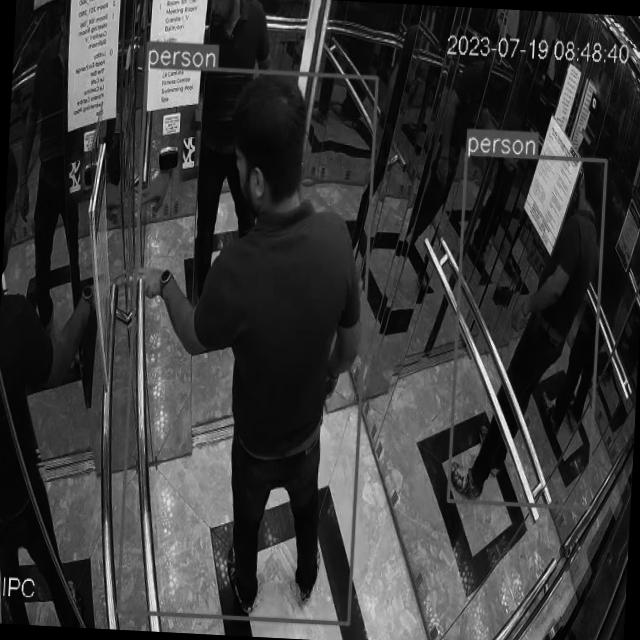person: (122, 66, 378, 624), (450, 156, 606, 509), (191, 0, 278, 313)
